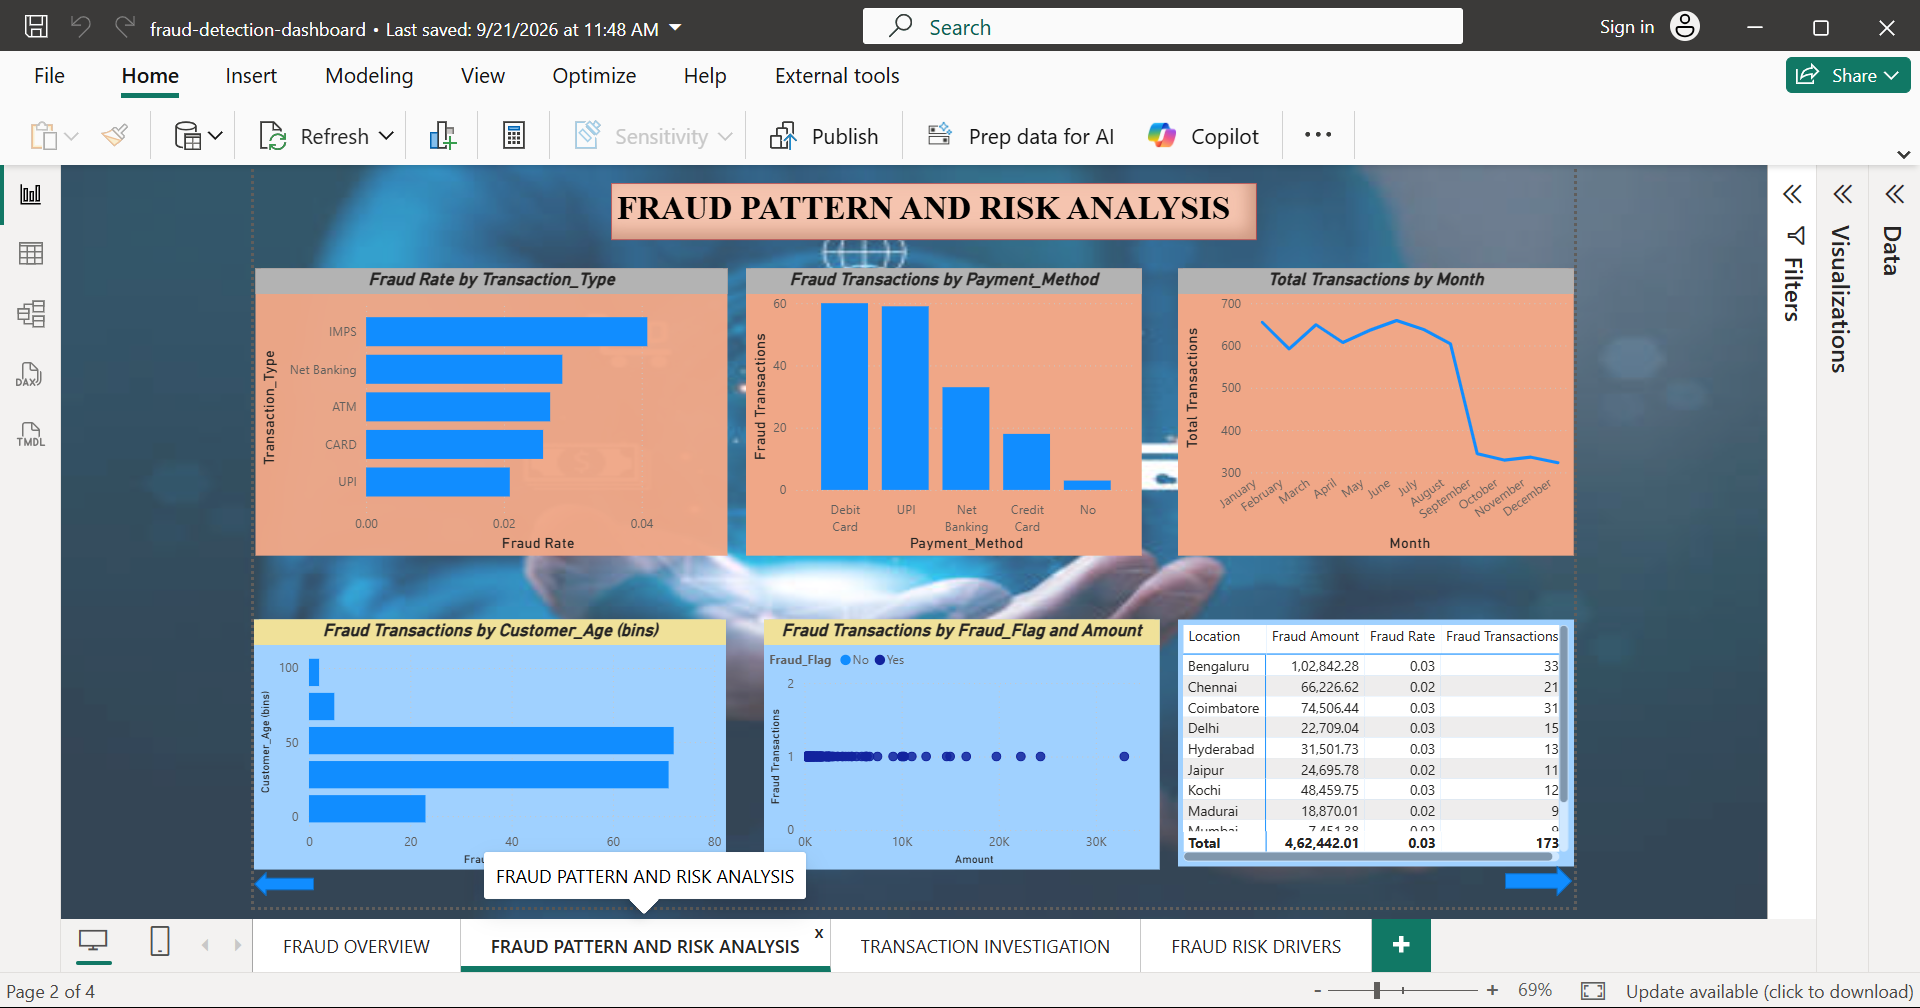

This screenshot's page, from the dashboard's own definition file:
{"tool":"powerbi","page":{"name":"FRAUD PATTERN AND RISK ANALYSIS","canvas":[1280,720],"ordinal":1},"visuals":[{"type":"barChart","fields":{"Category":["Fraud_data.Transaction_Type"],"Y":["Fraud_data.Fraud Rate"]},"box":[1.6,100.4,458.2,278.5],"z":0},{"type":"columnChart","fields":{"Category":["Fraud_data.Payment_Method"],"Y":["Fraud_data.Fraud Transactions"]},"box":[477.7,100.4,383.8,278.5],"z":1000},{"type":"barChart","fields":{"Y":["Fraud_data.Fraud Transactions"],"Category":["Fraud_data.Customer_Age (bins)"]},"box":[0,440.4,458.2,242.9],"z":2000},{"type":"scatterChart","fields":{"X":["Fraud_data.Amount"],"Y":["Fraud_data.Fraud Transactions"],"Series":["Fraud_data.Fraud_Flag"]},"box":[495.5,440.4,383.8,242.9],"z":3000},{"type":"lineChart","fields":{"Y":["Fraud_data.Total Transactions"],"Category":["Fraud_data.Transaction_Date.Variation.Date Hierarchy.Month"]},"box":[897.1,100.4,383.8,278.5],"z":4000},{"type":"pivotTable","fields":{"Rows":["Fraud_data.Location"],"Values":["Fraud_data.Fraud Amount","Fraud_data.Fraud Rate","Fraud_data.Fraud Transactions"]},"box":[897.1,440.4,383.8,239.6],"z":5000},{"type":"textbox","box":[346.5,17.8,626.6,55.1],"z":6000},{"type":"shape","box":[1213.6,679.2,65.2,30.2],"z":7000},{"type":"shape","box":[0,684.9,58.3,24.3],"z":8000}]}

Visuals, with their boxes on the page's 1280x720 design canvas (x1, y1, x2, y2). These are canvas units, not pixel positions in the 1920x1008 screenshot, which may show the page scaled, cropped or inside an application window:
barChart - Fraud_data.Transaction_Type x Fraud_data.Fraud Rate: bbox(2, 100, 460, 379)
columnChart - Fraud_data.Payment_Method x Fraud_data.Fraud Transactions: bbox(478, 100, 862, 379)
barChart - Fraud_data.Fraud Transactions x Fraud_data.Customer_Age (bins): bbox(0, 440, 458, 683)
scatterChart - Fraud_data.Amount x Fraud_data.Fraud Transactions: bbox(496, 440, 879, 683)
lineChart - Fraud_data.Total Transactions x Fraud_data.Transaction_Date.Variation.Date Hierarchy.Month: bbox(897, 100, 1281, 379)
pivotTable - Fraud_data.Location x Fraud_data.Fraud Amount: bbox(897, 440, 1281, 680)
textbox: bbox(346, 18, 973, 73)
shape: bbox(1214, 679, 1279, 709)
shape: bbox(0, 685, 58, 709)
